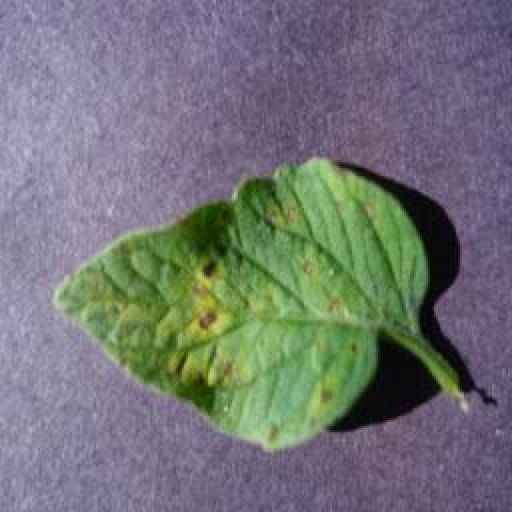Septoria: (50, 158, 429, 458)
